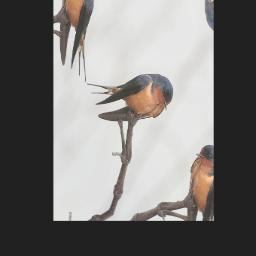Swallow: (82, 23, 180, 162)
